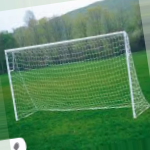goals: (5, 28, 150, 122)
